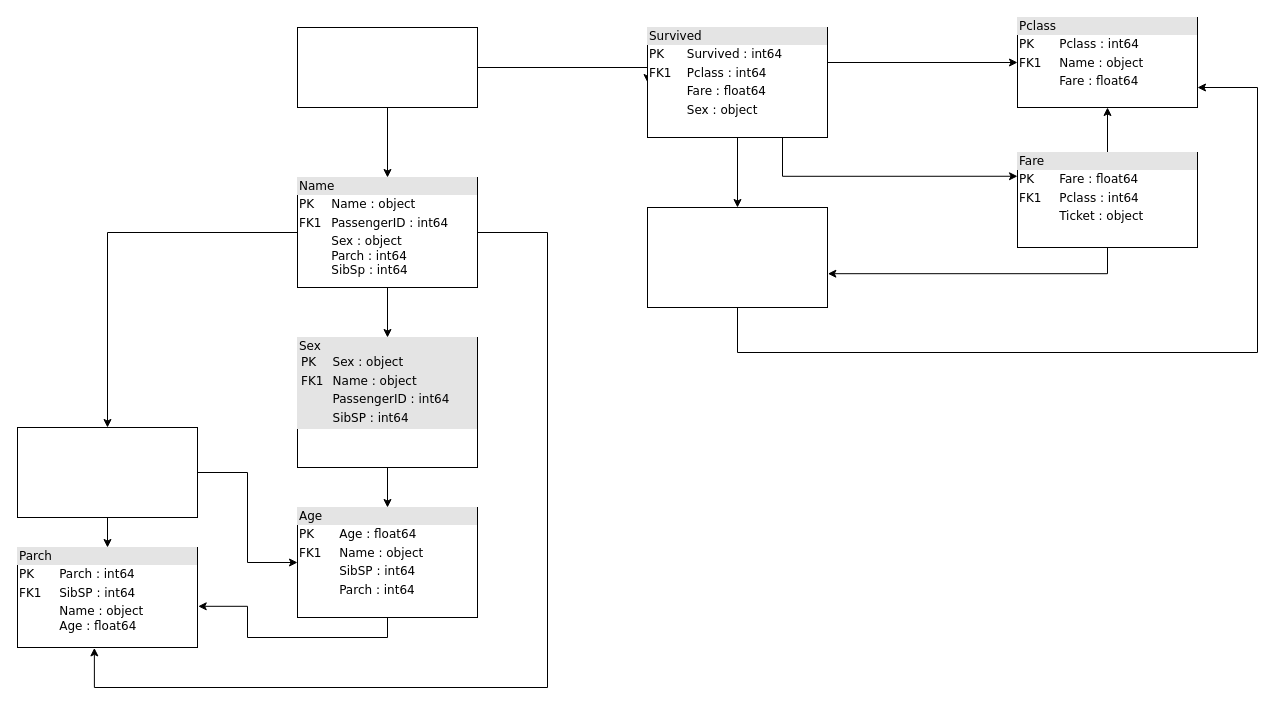
Some shapes in this 1283 by 713 pixel diagram are drawn without their labels. Here are the shapes that lost their labels. From the top down, the centre of each, then its label:
the point at 387,67: Passenger ID PK PassengerID : int64 FK1 Name : object
the point at 737,257: Ticket PK Ticket : object FK1 Fare : float64 FK2 Pclass : int64
the point at 107,472: SibSp PK SibSP : int64 FK1 Name : object Age : float64
